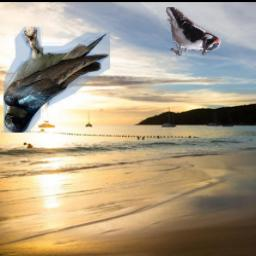Swallow: (2, 28, 109, 134)
Woodpecker: (166, 8, 221, 57)
